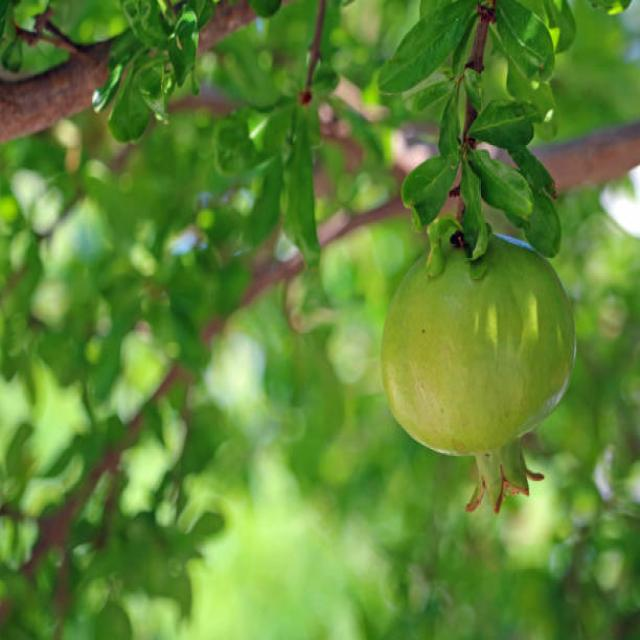Unripe: (382, 227, 576, 519)
